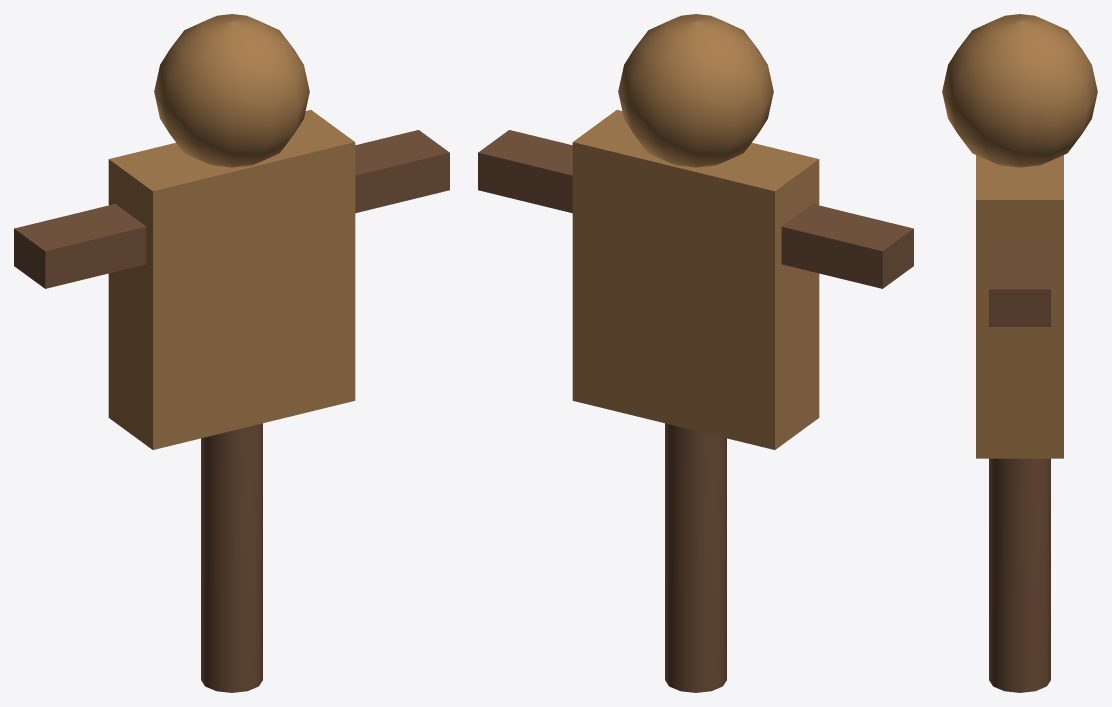
File: training_dummy.glb
The picture shows the model from 3 angles, left to right: view 1: azimuth 30°, elevation 25°; view 2: azimuth 150°, elevation 25°; view 3: azimuth 270°, elevation 25°; orthographic projection.
Parts seen in each view (by area): view 1: body, head, post, arms; view 2: body, head, post, arms; view 3: body, head, post, arms.
Boxes of the visible parts, x1,y1,x2,y2 form: body: [108, 110, 355, 449]; head: [154, 14, 309, 167]; post: [201, 423, 262, 692]; arms: [14, 130, 449, 288]; body: [572, 110, 819, 449]; head: [618, 14, 773, 167]; post: [665, 423, 726, 692]; arms: [478, 130, 913, 288]; body: [976, 155, 1063, 458]; head: [942, 14, 1097, 167]; post: [989, 458, 1050, 692]; arms: [989, 240, 1050, 326].
Bounding box in the file's own units: 0.9 × 1.4 × 0.3.
